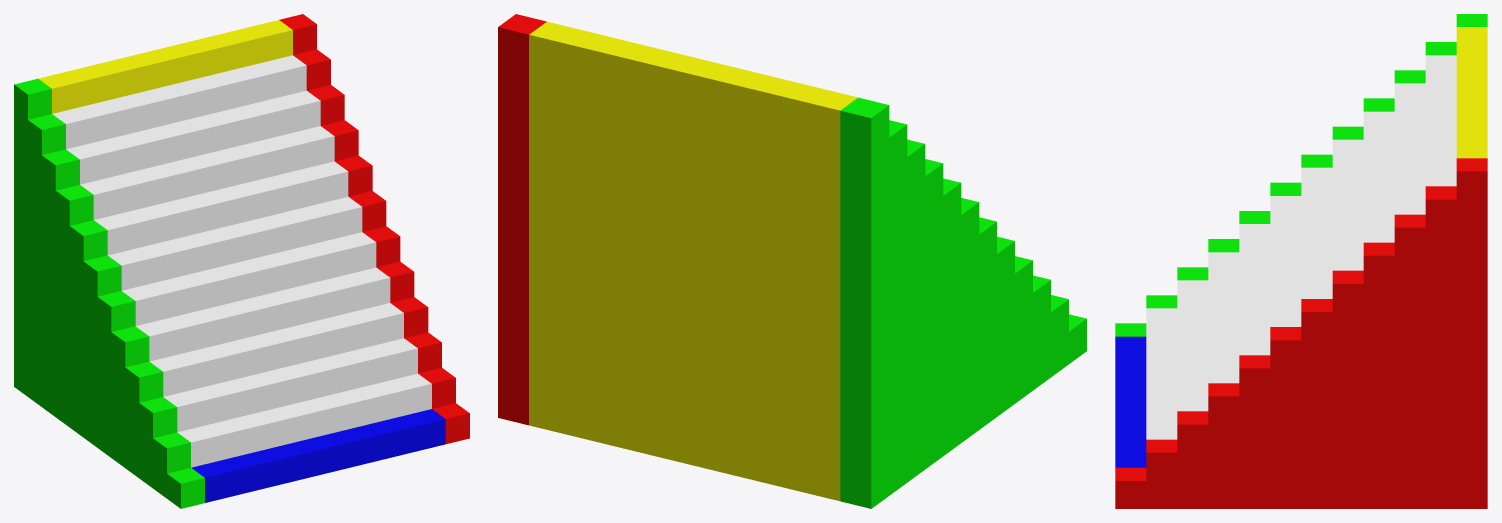
File: 12voxCube.obj
3 views of the same model, side by side, from view 1: azimuth 30°, elevation 25°; view 2: azimuth 150°, elevation 25°; view 3: azimuth 270°, elevation 25° (orthographic). The views are drawn at different scales.
Bounding box in the file's own units: 1.2 × 1.2 × 1.2.
Materials: 1 (1 with a texture image).
